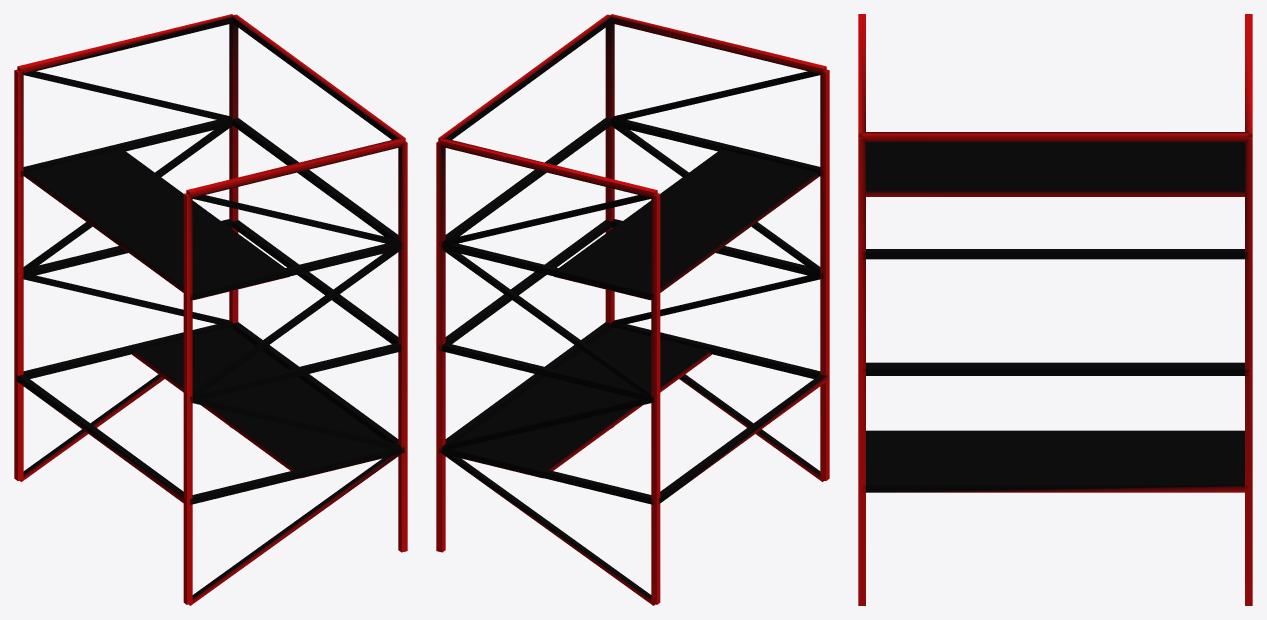
The model's file is arch_scaffold.glb.
The picture shows the model from 3 angles, left to right: view 1: azimuth 30°, elevation 25°; view 2: azimuth 150°, elevation 25°; view 3: azimuth 270°, elevation 25°; orthographic projection. The views are drawn at different scales.
Parts seen in each view (by area): view 1: arch_scaffold; view 2: arch_scaffold; view 3: arch_scaffold.
Part boxes in pixels (box(x1,y1,x2,y2)): arch_scaffold: box(14, 14, 407, 605); arch_scaffold: box(436, 14, 829, 605); arch_scaffold: box(858, 14, 1252, 605).
Bounding box in the file's own units: 22.6 × 40.52 × 30.6.
